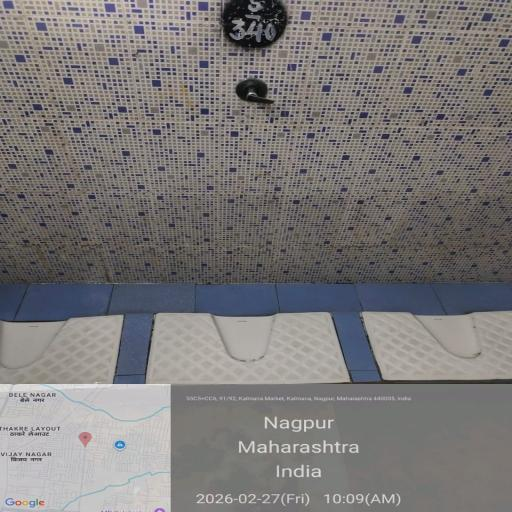clean_floor: (31, 14, 495, 283)
clean_urinal: (10, 286, 502, 464)
